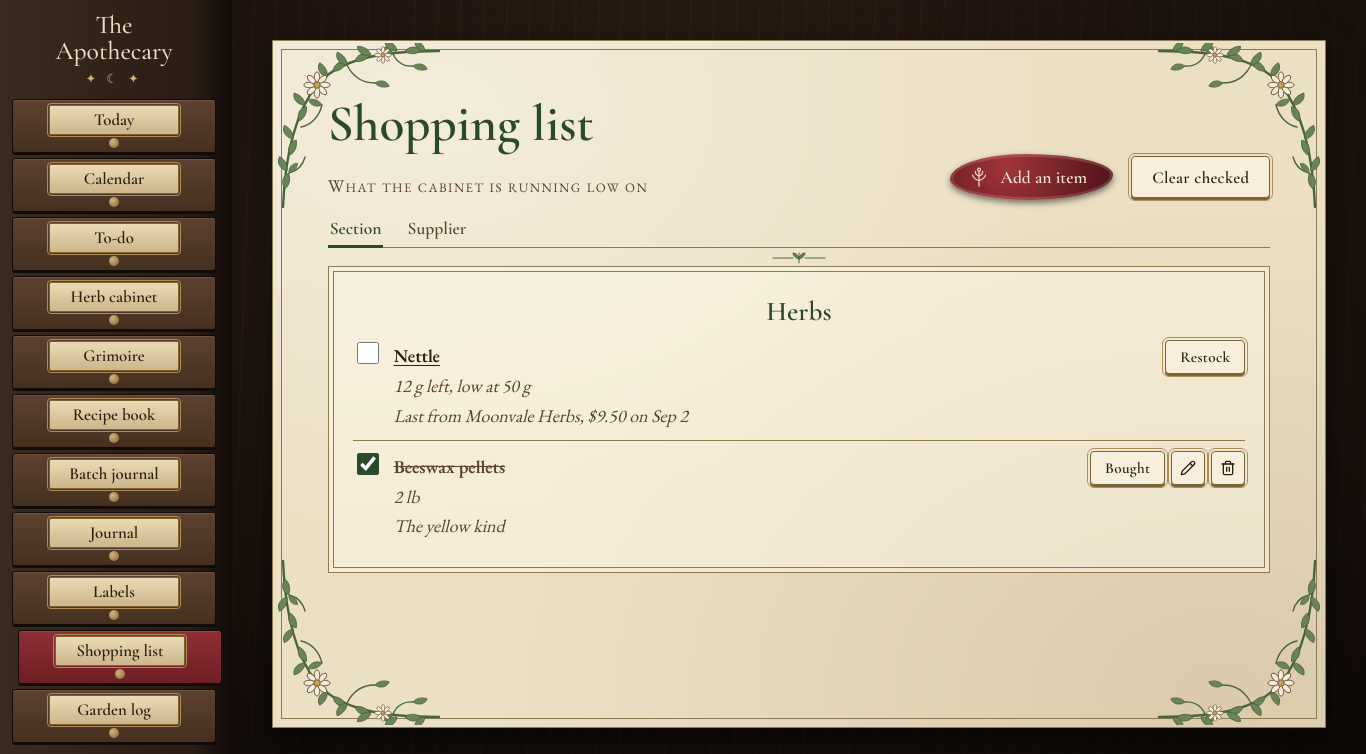
Scenario: offers no Undo when a clear removes nothing
The width and height of the screenshot is (1366, 754).
Expected: the checkbox named "Nettle" is shown, [357,342,379,364]
Step 1. Click the button "Clear checked" → click(1201, 177), box [1131,156,1270,198]
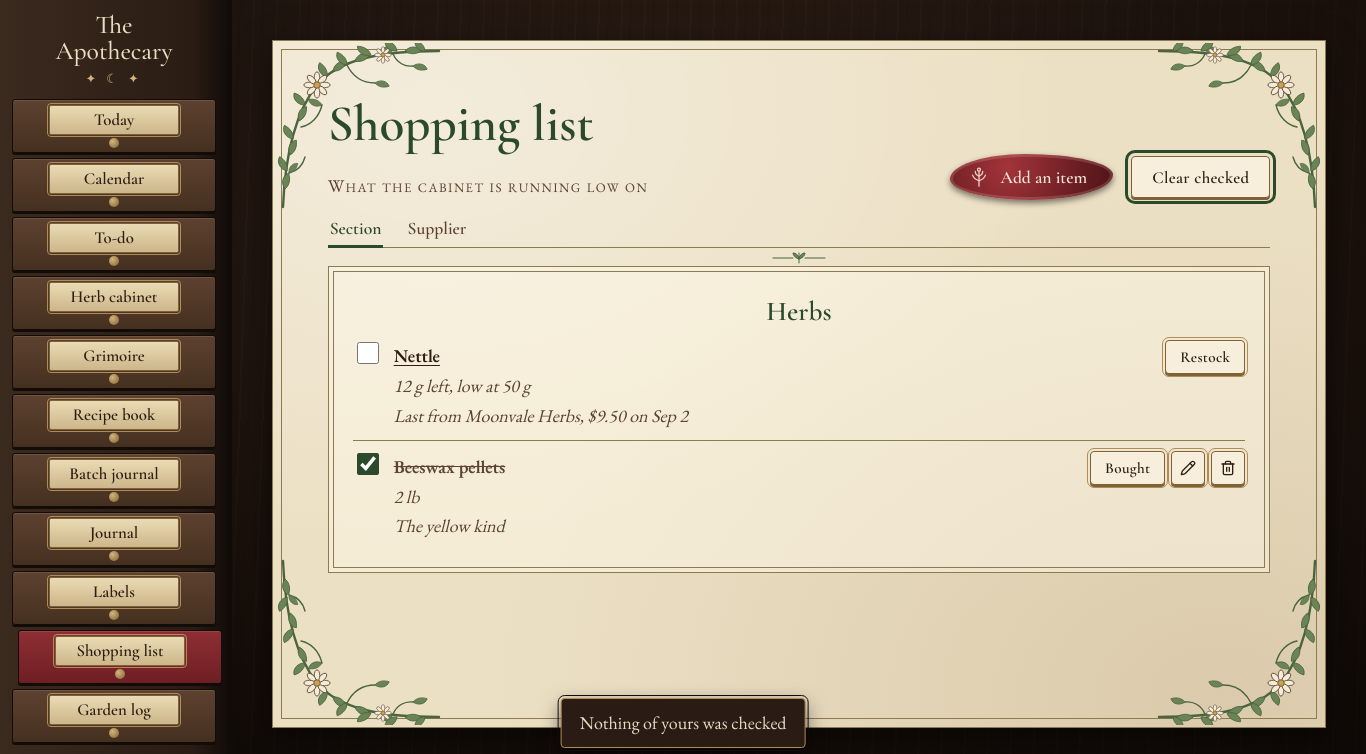
Now the text "Nothing of yours was checked" is shown, box [580,709,786,737]
